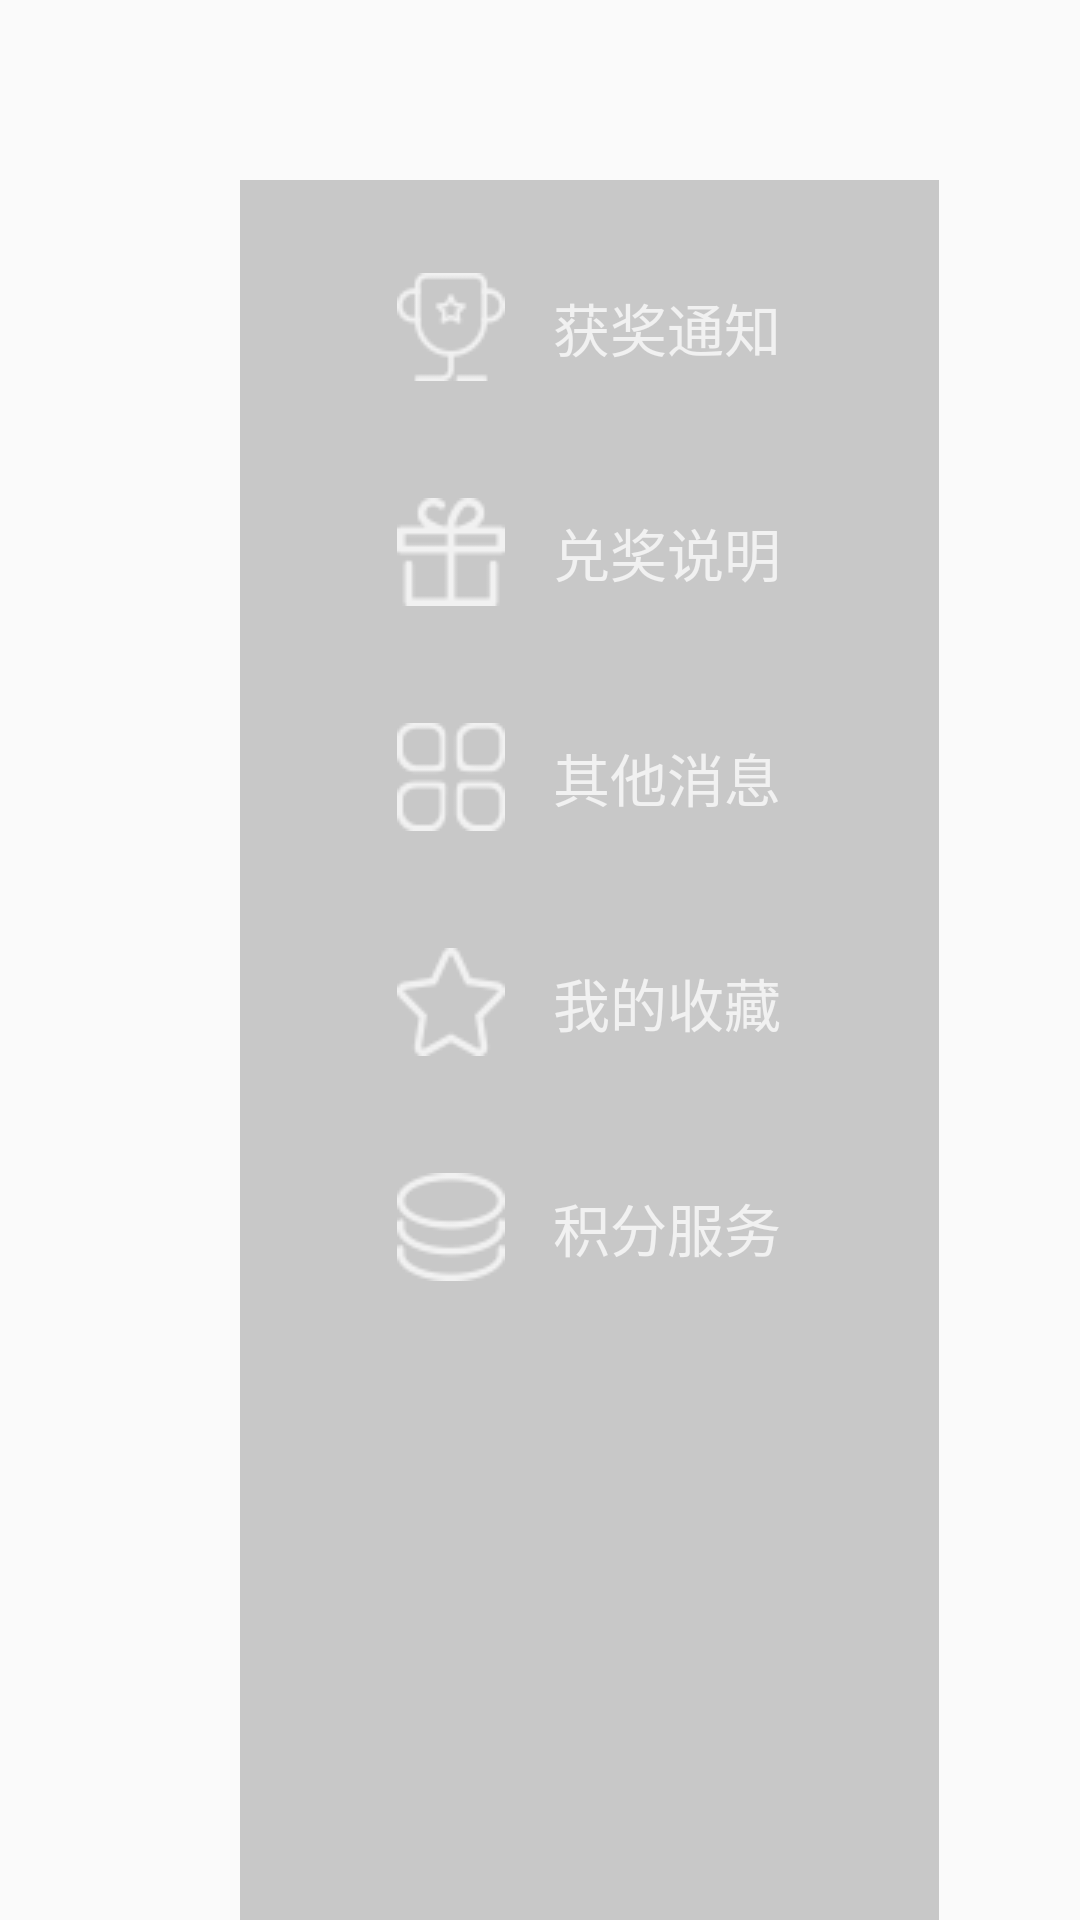

Icon bounding boxes for this 1080 × 1920 phone screenshot, format (x1, y1, x2, y2):
personal fav: (397, 948, 505, 1056)
personal others: (397, 723, 505, 831)
personal win: (397, 273, 505, 381)
